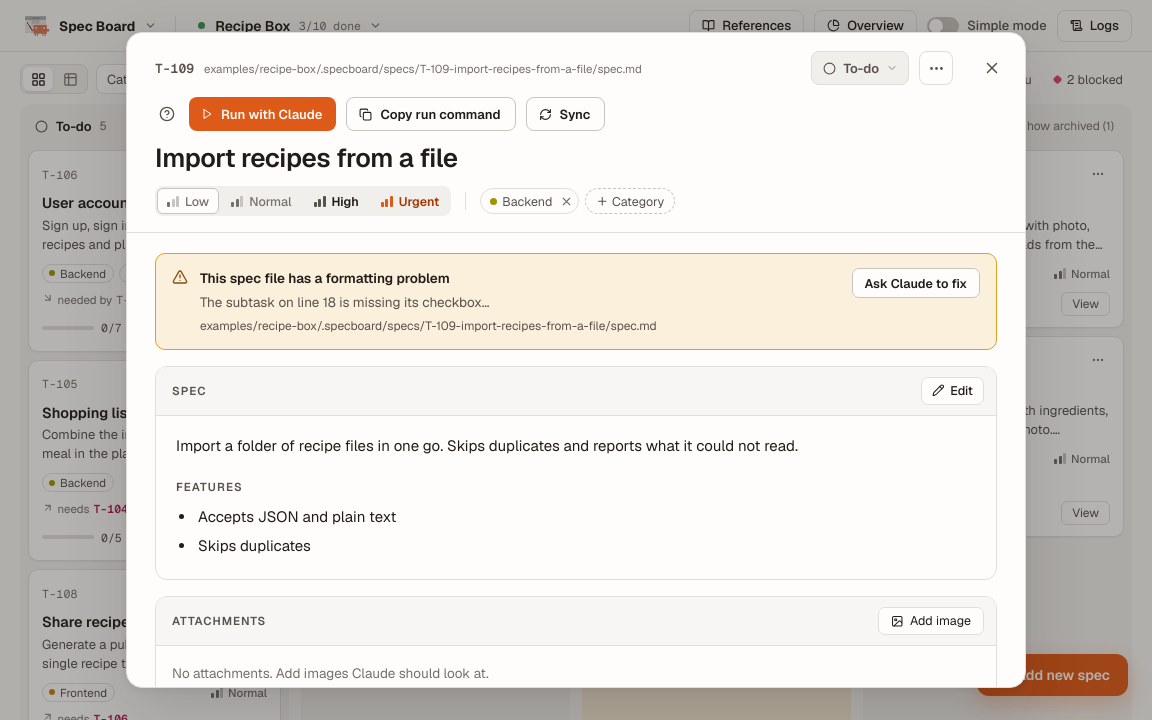
Test: the actions start the right kind › Ask Claude to fix: start fix-file and toast
Click the button "Ask Claude to fix" at (916, 283), box [852,268,980,298]
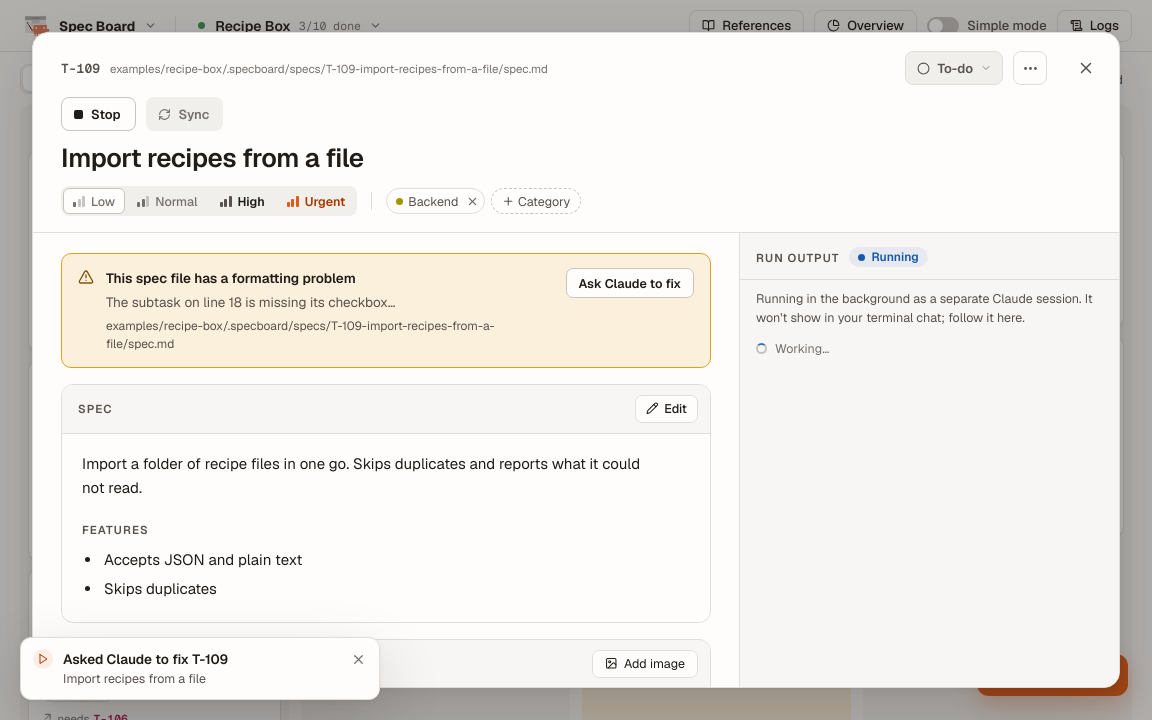
Expected: the text "Asked Claude to fix T-109" is shown once, [63,650,228,668]
